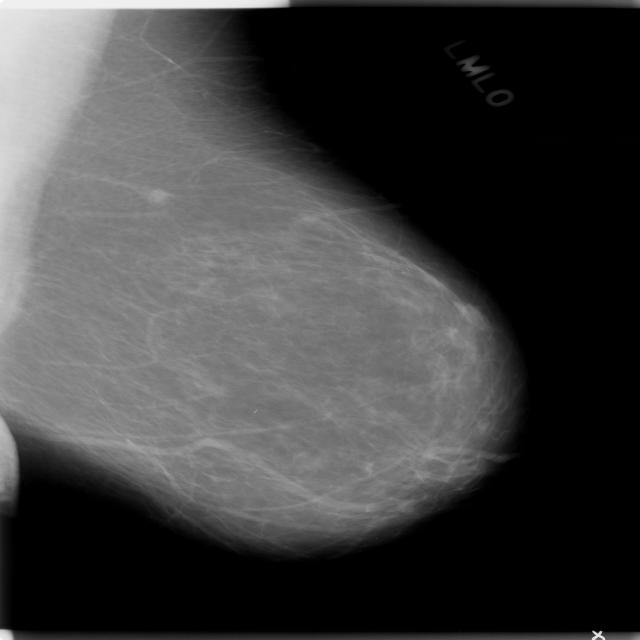normal: (0, 0, 529, 564)
